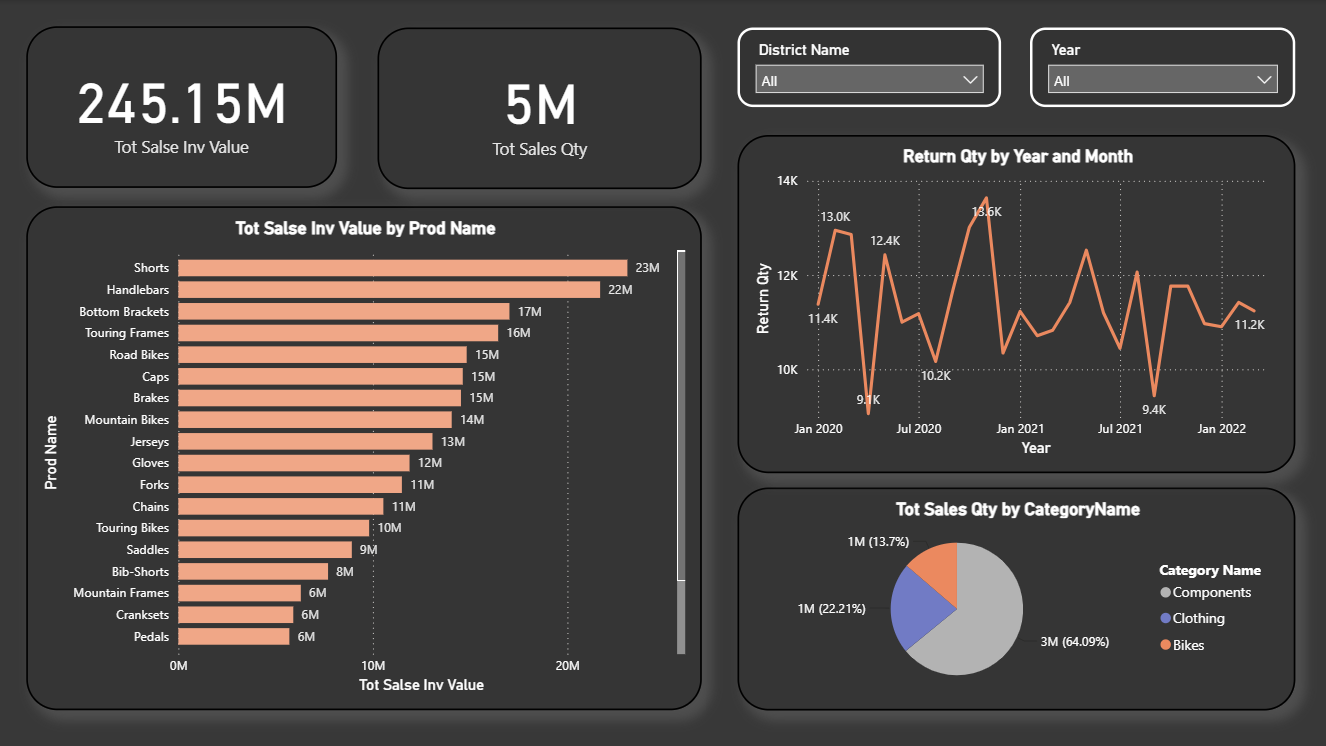

This screenshot's page, from the dashboard's own definition file:
{"tool":"powerbi","page":{"name":"Page 1","canvas":[1280,720],"ordinal":1},"visuals":[{"type":"barChart","fields":{"Category":["Products.Prod Name"],"Y":["all_measures.Tot Salse Inv Value"]},"box":[25.7,199.6,652.2,486.1],"z":0},{"type":"pieChart","fields":{"Category":["Product Category.CategoryName"],"Y":["all_measures.Tot Sales Qty"]},"box":[711.4,470.5,538.6,215.2],"z":1000},{"type":"lineChart","fields":{"Y":["all_measures.Return Qty"],"Category":["Calender.Date.Variation.Date Hierarchy.Year","Calender.Date.Variation.Date Hierarchy.Month"]},"box":[711.4,129.8,538.6,326.4],"z":2000},{"type":"card","fields":{"Values":["all_measures.Tot Salse Inv Value"]},"box":[25.7,25.7,299.9,155.7],"z":3000},{"type":"card","fields":{"Values":["all_measures.Tot Sales Qty"]},"box":[364.9,26.8,313,155.7],"z":4000},{"type":"slicer","fields":{"Values":["Branches.District Name"]},"box":[711.4,27.1,254.8,77],"z":5000},{"type":"slicer","fields":{"Values":["Calender.Date.Variation.Date Hierarchy.Year"]},"box":[993.8,27.1,256.2,77],"z":6000}]}

Visuals, with their boxes in screenshot pixels (x1, y1, x2, y2), scaled from the page's 1280x720 canvas onto the 1326x746 screenshot:
barChart - Products.Prod Name x all_measures.Tot Salse Inv Value: Rect(27, 207, 702, 710)
pieChart - Product Category.CategoryName x all_measures.Tot Sales Qty: Rect(737, 487, 1295, 710)
lineChart - all_measures.Return Qty x Calender.Date.Variation.Date Hierarchy.Year: Rect(737, 134, 1295, 473)
card - all_measures.Tot Salse Inv Value: Rect(27, 27, 337, 188)
card - all_measures.Tot Sales Qty: Rect(378, 28, 702, 189)
slicer - Branches.District Name: Rect(737, 28, 1001, 108)
slicer - Calender.Date.Variation.Date Hierarchy.Year: Rect(1030, 28, 1295, 108)
